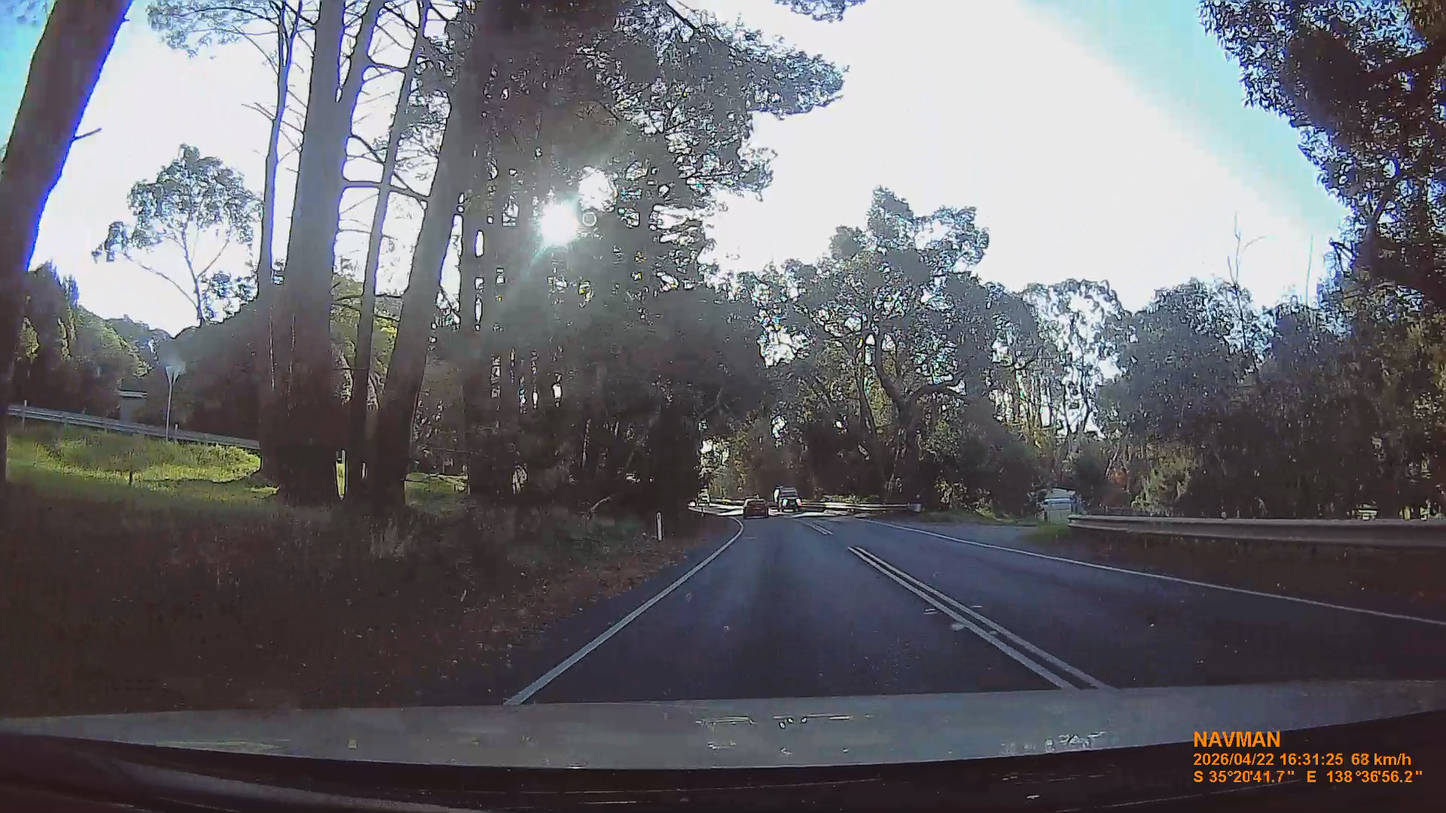road barriers: (1068, 513, 1444, 559), (770, 502, 920, 518)
